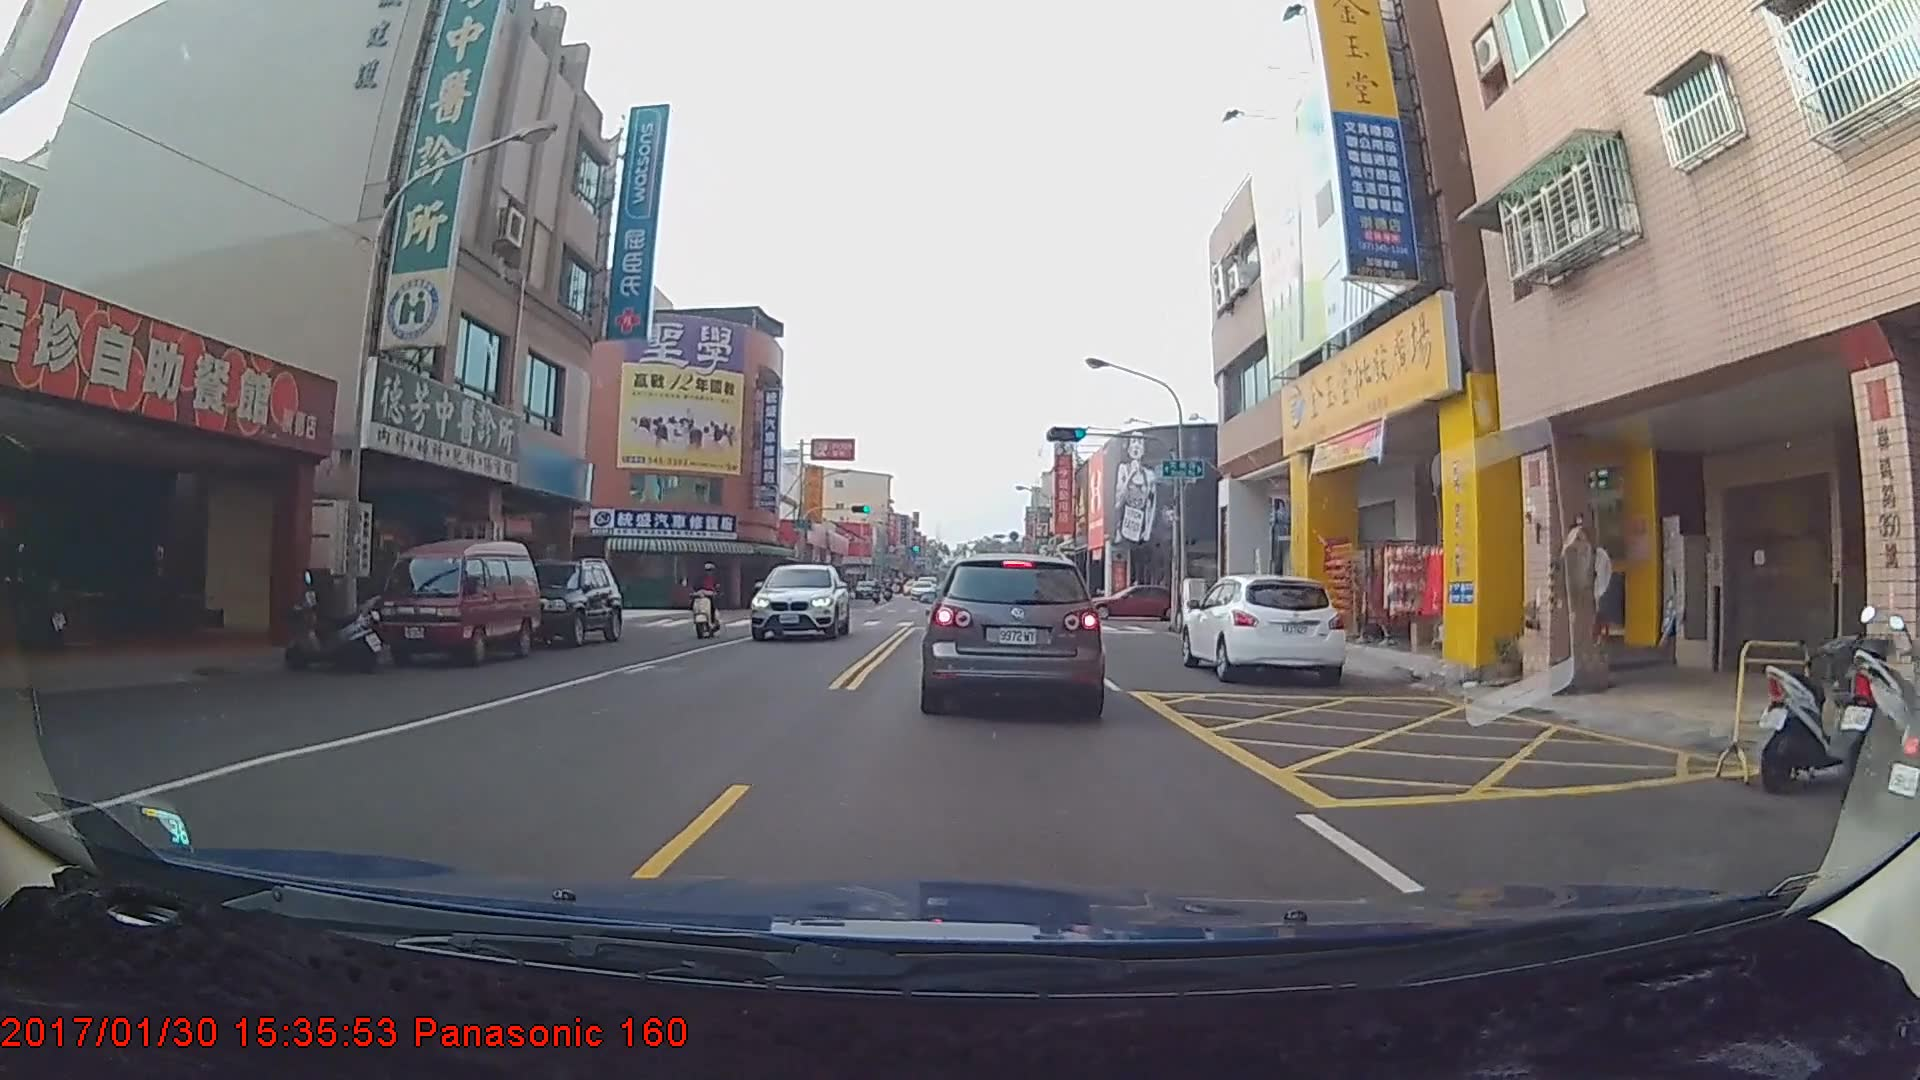rider: (685, 557, 729, 637)
vehicle: (924, 549, 1102, 714), (372, 534, 540, 666), (1183, 572, 1347, 684), (501, 555, 621, 645), (757, 555, 852, 639), (1081, 584, 1190, 619), (909, 577, 935, 597)
